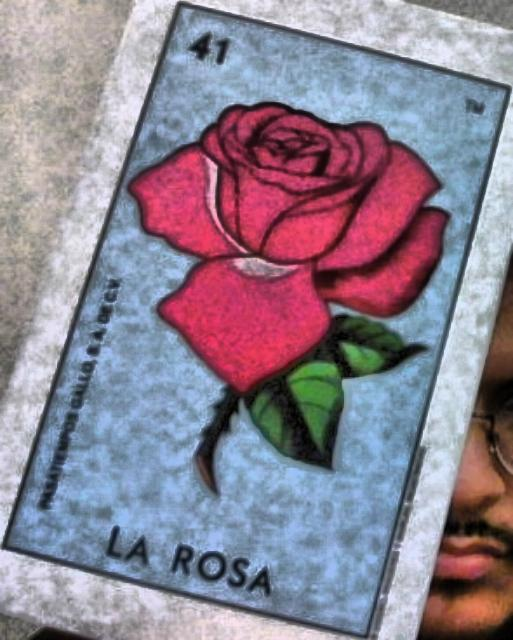La Rosa: (0, 2, 508, 634)
